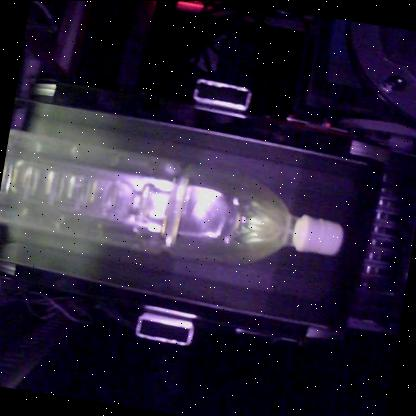Plastic Bottle: (8, 130, 344, 262)
